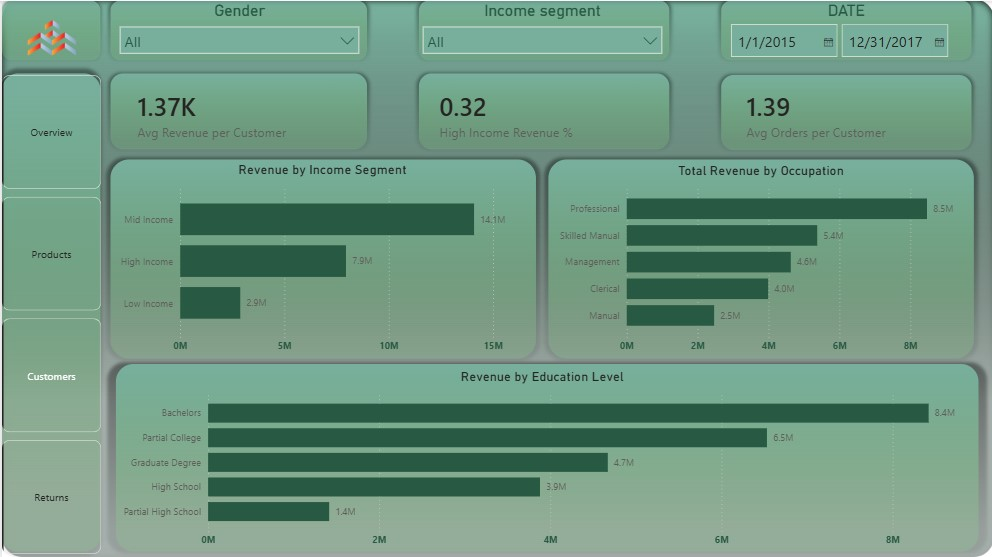

The dashboard page shown, as its layout file describes it:
{"tool":"powerbi","page":{"name":"Customers","canvas":[1280,720],"ordinal":2},"visuals":[{"type":"cardVisual","fields":{"Data":["Measure.Avg Revenue per Customer"]},"box":[141.7,95,330,101.7],"z":1000},{"type":"cardVisual","fields":{"Data":["Measure.High Income Revenue %"]},"box":[531.7,96.7,330,100],"z":2000},{"type":"cardVisual","fields":{"Data":["Measure.Avg Orders per Customer"]},"box":[928.3,96.7,323.3,100],"z":3000},{"type":"slicer","title":"Gender","fields":{"Values":["customer.Gender"]},"box":[142.1,0,329.2,80.1],"z":4000},{"type":"slicer","title":"DATE","fields":{"Values":["Date.Date"]},"box":[928.3,0,323.3,80],"z":5000},{"type":"slicer","title":"Income segment","fields":{"Values":["customer.Income Segment"]},"box":[532.4,0,329.2,80.1],"z":6000},{"type":"pageNavigator","box":[0,95,128.3,618.3],"z":7000},{"type":"image","box":[0,0,128.3,95],"z":8000},{"type":"clusteredBarChart","title":" Revenue by Income Segment","fields":{"Category":["customer.Income Segment"],"Y":["Measure.Total Revenue"]},"box":[141.7,208.3,543.3,255],"z":9000},{"type":"barChart","fields":{"Y":["Measure.Total Revenue"],"Category":["customer.Occupation"]},"box":[707.5,209,544.8,253.7],"z":10000},{"type":"barChart","title":"Revenue by Education Level","fields":{"Category":["customer.EducationLevel"],"Y":["Measure.Total Revenue"]},"box":[141.8,474.6,1110.4,238.8],"z":11000}]}

Visuals, with their boxes in screenshot pixels (x1, y1, x2, y2), scaled from the page's 1280x720 canvas onto the 992x557 screenshot:
cardVisual - Measure.Avg Revenue per Customer: Rect(110, 73, 366, 152)
cardVisual - Measure.High Income Revenue %: Rect(412, 75, 668, 152)
cardVisual - Measure.Avg Orders per Customer: Rect(719, 75, 970, 152)
"Gender" slicer: Rect(110, 0, 365, 62)
"DATE" slicer: Rect(719, 0, 970, 62)
"Income segment" slicer: Rect(413, 0, 668, 62)
pageNavigator: Rect(0, 73, 99, 552)
image: Rect(0, 0, 99, 73)
" Revenue by Income Segment" clusteredBarChart: Rect(110, 161, 531, 358)
barChart - Measure.Total Revenue x customer.Occupation: Rect(548, 162, 971, 358)
"Revenue by Education Level" barChart: Rect(110, 367, 970, 552)
